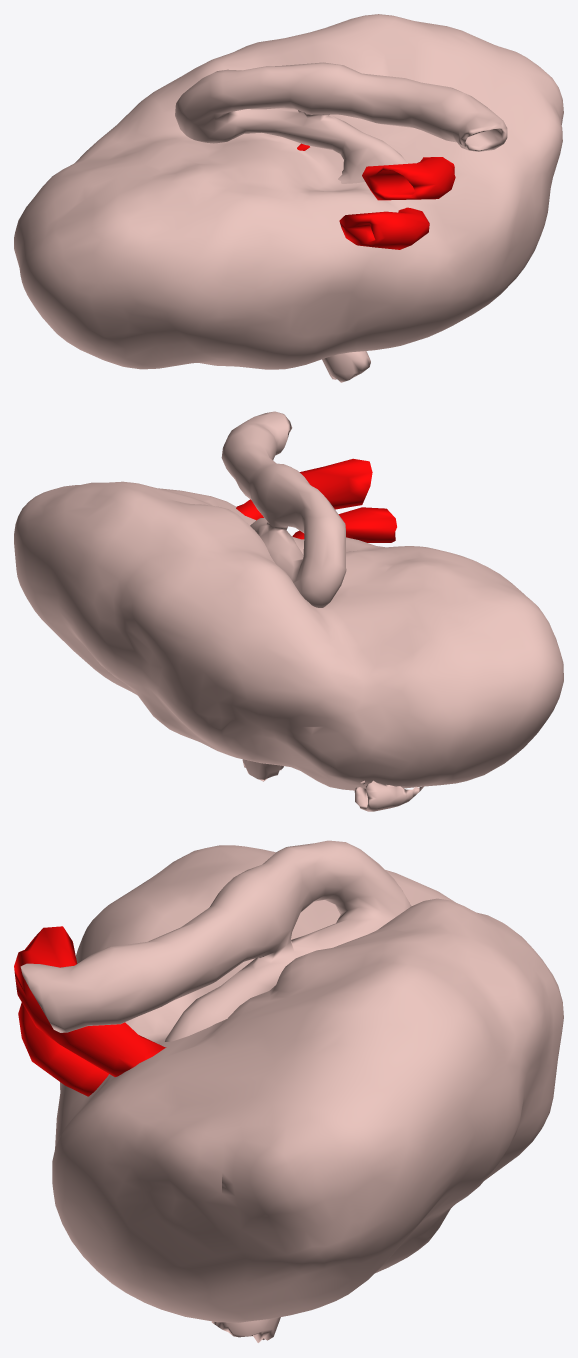
File: nih_f_lymph_node-40.glb
3 views of the same model, one above another, from view 1: azimuth 30°, elevation 25°; view 2: azimuth 150°, elevation 25°; view 3: azimuth 270°, elevation 25° (orthographic). The views are drawn at different scales.
Parts seen in each view (by area): view 1: Yao_capsule_of_lymph_node, Yao_efferent_lymph_node, Yao_blood_vasculature, Yao_afferent_lymphatic_vessel; view 2: Yao_capsule_of_lymph_node, Yao_efferent_lymph_node, Yao_blood_vasculature, Yao_afferent_lymphatic_vessel; view 3: Yao_capsule_of_lymph_node, Yao_efferent_lymph_node, Yao_blood_vasculature, Yao_afferent_lymphatic_vessel.
Part boxes in pixels (x1,y1,x2,y2): Yao_capsule_of_lymph_node: (14, 14, 563, 369); Yao_efferent_lymph_node: (175, 62, 507, 183); Yao_blood_vasculature: (297, 143, 455, 249); Yao_afferent_lymphatic_vessel: (322, 351, 370, 382); Yao_capsule_of_lymph_node: (14, 481, 563, 790); Yao_efferent_lymph_node: (221, 411, 346, 607); Yao_blood_vasculature: (236, 458, 396, 542); Yao_afferent_lymphatic_vessel: (242, 759, 423, 811); Yao_capsule_of_lymph_node: (52, 845, 563, 1322); Yao_efferent_lymph_node: (20, 840, 411, 1041); Yao_blood_vasculature: (14, 926, 166, 1096); Yao_afferent_lymphatic_vessel: (211, 1317, 280, 1342).
Bounding box in the file's own units: 0.0196 × 0.0113 × 0.0125.
